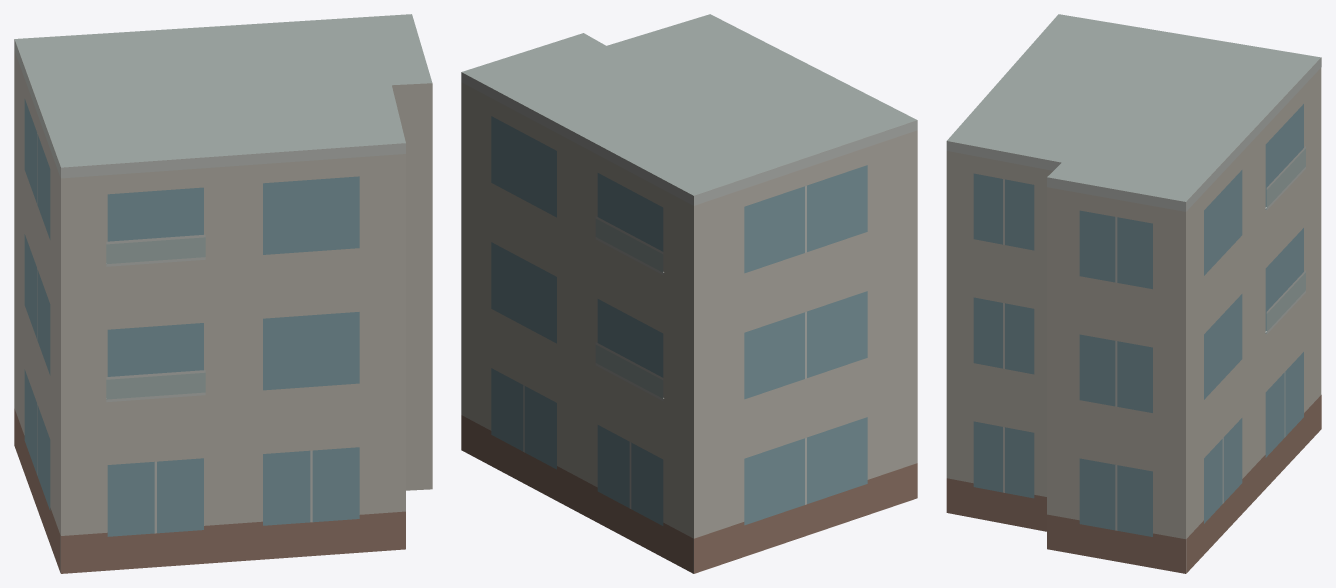
Rendered from survey-upis-32491665.glb.
3 views of the same model, side by side, from view 1: azimuth 30°, elevation 25°; view 2: azimuth 150°, elevation 25°; view 3: azimuth 270°, elevation 25° (orthographic). The views are drawn at different scales.
Parts seen in each view (by area): view 1: survey-upis-32491665.tmp; view 2: survey-upis-32491665.tmp; view 3: survey-upis-32491665.tmp.
Part boxes in pixels (bbox=[...]): survey-upis-32491665.tmp: bbox=[14, 14, 432, 573]; survey-upis-32491665.tmp: bbox=[461, 14, 917, 573]; survey-upis-32491665.tmp: bbox=[946, 14, 1321, 573].
Bounding box in the file's own units: 9.93 × 9.15 × 8.36.
